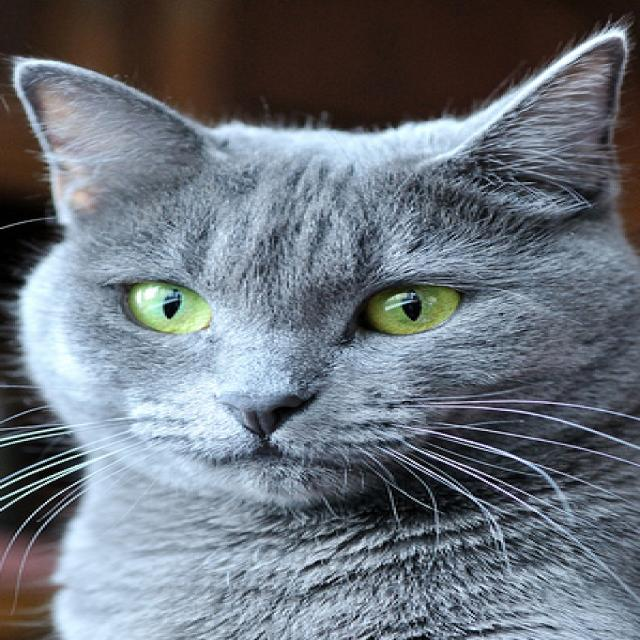Russian Blue: (2, 21, 640, 640)
